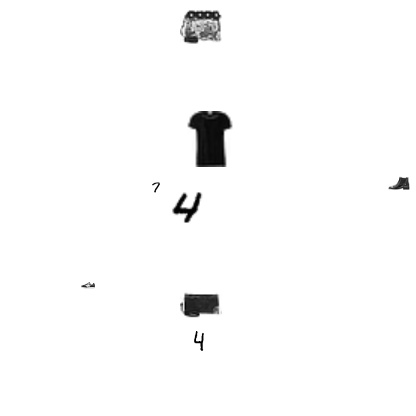4: (165, 185, 207, 227), (185, 326, 213, 354)
7: (149, 179, 163, 193)
Ankle_boot: (388, 172, 410, 194)
Bag: (180, 284, 222, 326), (180, 6, 222, 48)
Shirt: (182, 111, 238, 167)
Sneaker: (81, 278, 95, 292)
